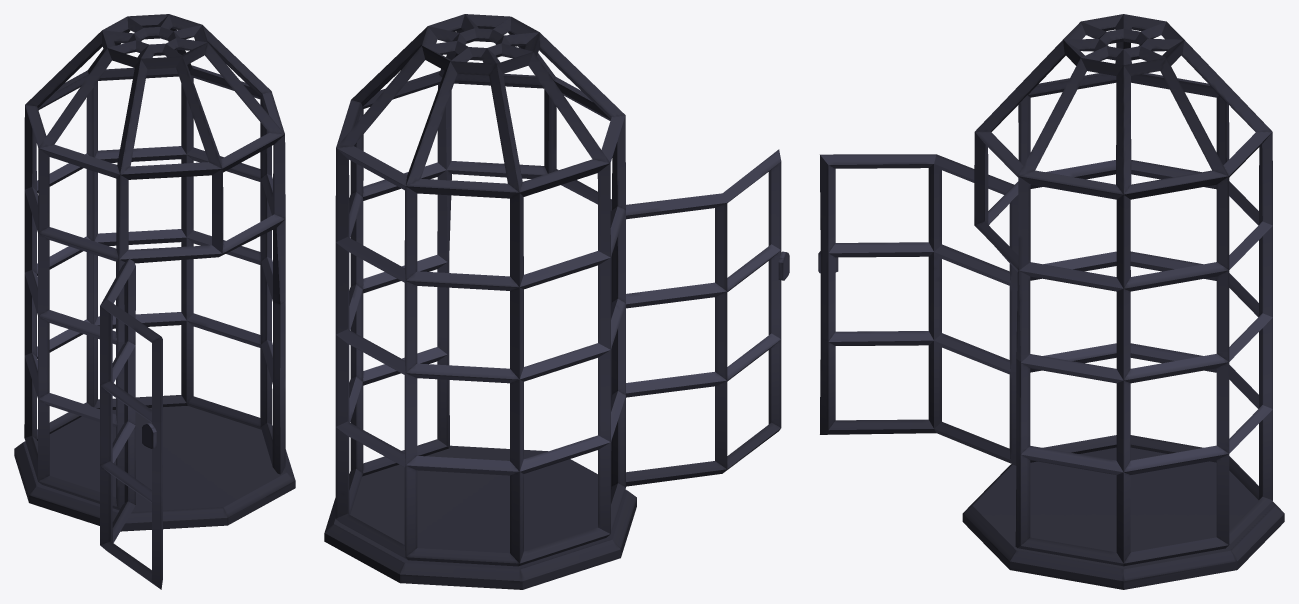
Rendered from GaiolaRedonda.fbx.
3 renders of one model, left to right at view 1: azimuth 30°, elevation 25°; view 2: azimuth 150°, elevation 25°; view 3: azimuth 270°, elevation 25°, orthographic. The views are drawn at different scales.
Parts seen in each view (by area): view 1: Gaiola redonda; view 2: Gaiola redonda; view 3: Gaiola redonda.
Boxes of the visible parts, x1,y1,x2,y2 form: Gaiola redonda: (14, 14, 295, 589); Gaiola redonda: (324, 14, 789, 589); Gaiola redonda: (818, 14, 1284, 589).
Bounding box in the file's own units: 126 × 196 × 172.
